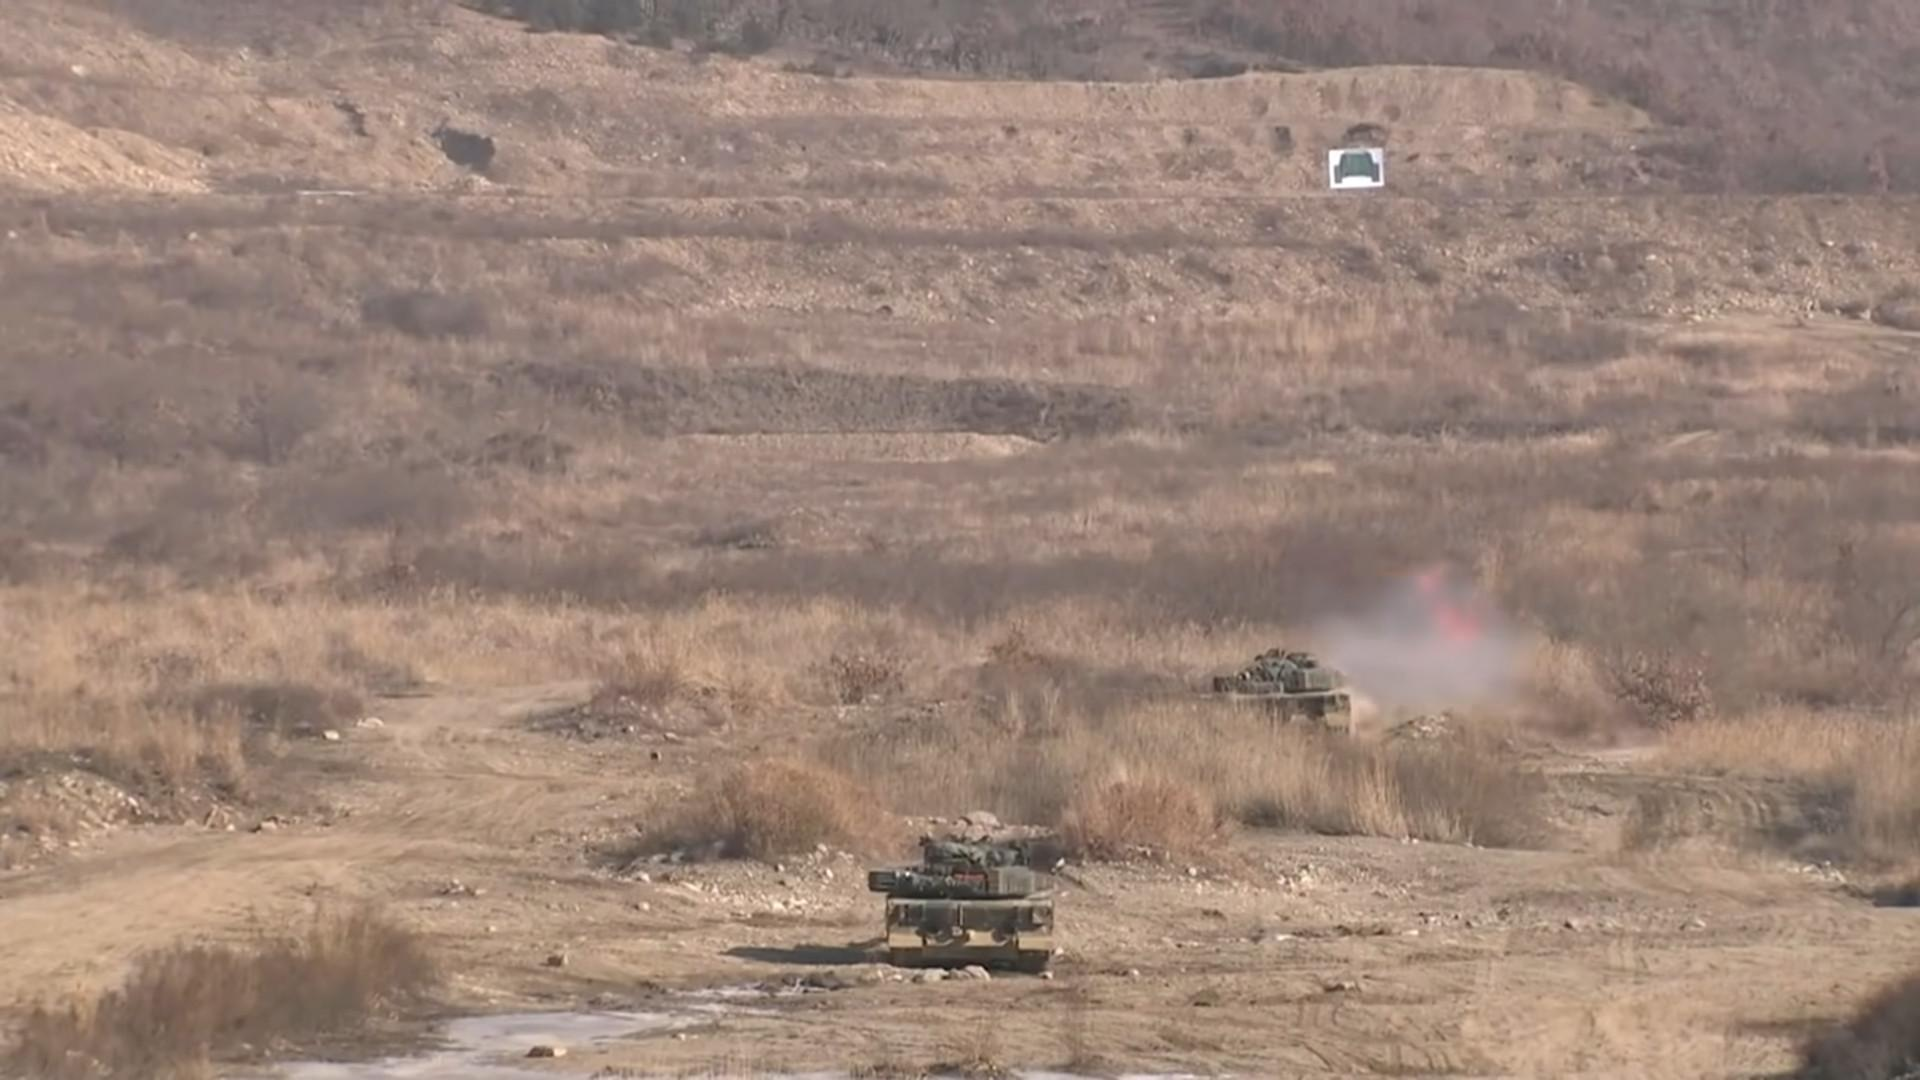tank: (870, 833, 1060, 972), (1213, 649, 1350, 736)
